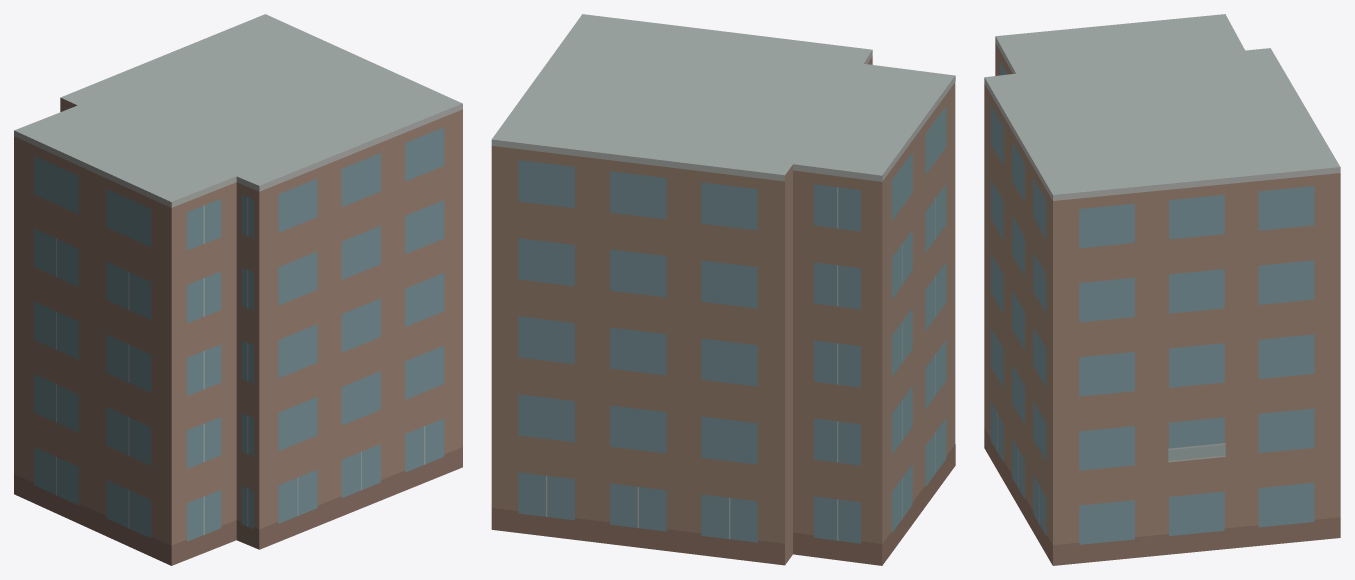
File: survey-upis-32833875.glb
The picture shows the model from 3 angles, left to right: view 1: azimuth 30°, elevation 25°; view 2: azimuth 150°, elevation 25°; view 3: azimuth 270°, elevation 25°; orthographic projection. The views are drawn at different scales.
Visible parts, largest first — view 1: survey-upis-32833875.tmp; view 2: survey-upis-32833875.tmp; view 3: survey-upis-32833875.tmp.
Boxes of the visible parts, x1,y1,x2,y2 form: survey-upis-32833875.tmp: (14, 14, 462, 565); survey-upis-32833875.tmp: (491, 14, 955, 565); survey-upis-32833875.tmp: (984, 14, 1340, 565).
Bounding box in the file's own units: 15.98 × 15.25 × 13.29.
